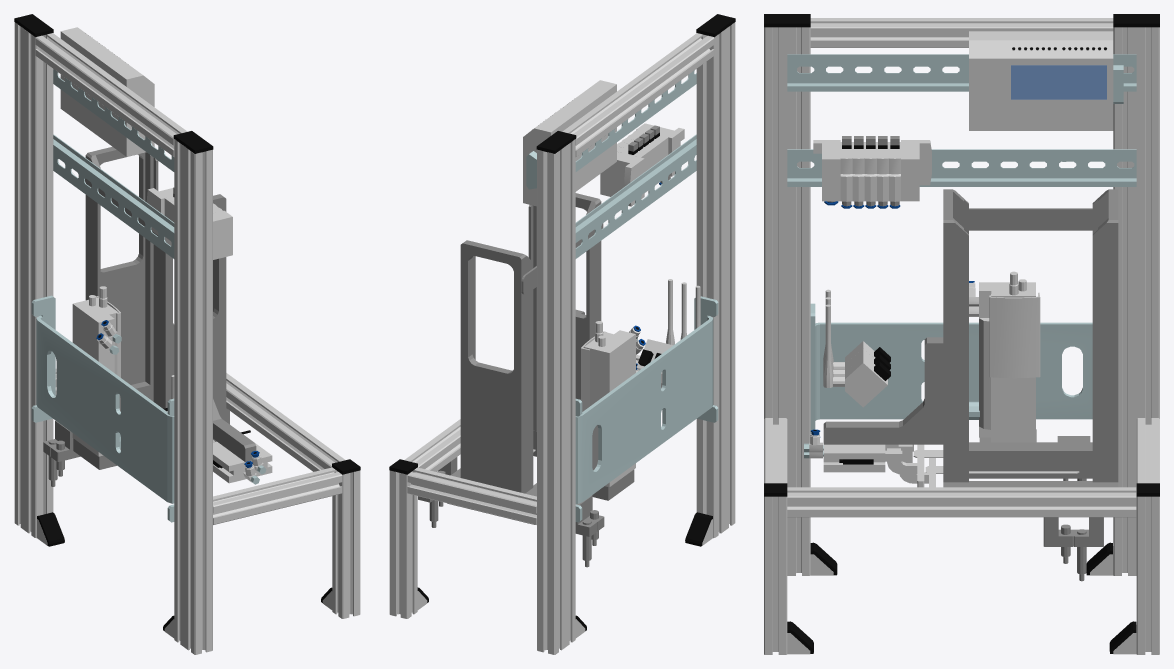
The model's file is magFront.fbx.
3 views of the same model, side by side, from view 1: azimuth 30°, elevation 25°; view 2: azimuth 150°, elevation 25°; view 3: azimuth 270°, elevation 25° (orthographic). The views are drawn at different scales.
Parts seen in each view (by area): view 1: FbxMesh (×21); view 2: FbxMesh (×20); view 3: FbxMesh (×38).
Boxes of the visible parts, x1,y1,x2,y2 form: FbxMesh (×21): (14, 14, 360, 654); FbxMesh (×20): (389, 14, 735, 654); FbxMesh (×38): (764, 14, 1159, 654).
Bounding box in the file's own units: 0.1843 × 0.5234 × 0.34.
